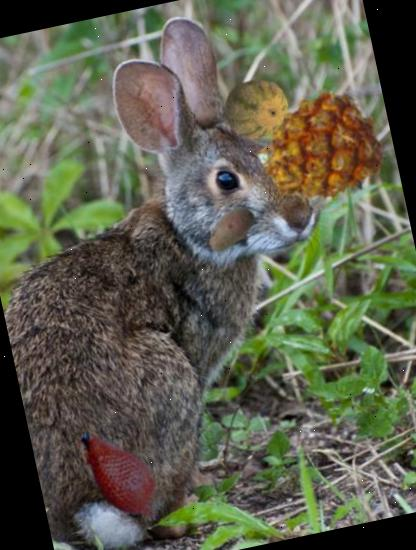Cantaloupe: (218, 72, 294, 148)
Pineapple: (249, 77, 394, 222)
Potato: (195, 196, 266, 267)
Salak: (56, 412, 185, 542)
